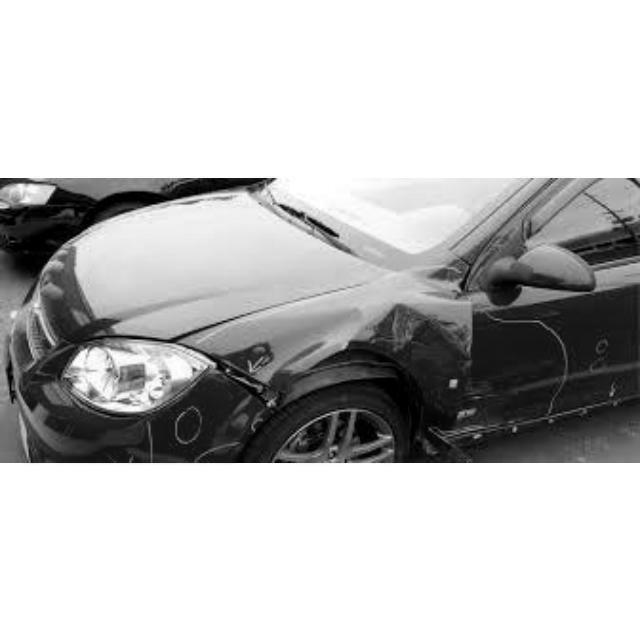fender-dent: (293, 263, 487, 375), (223, 337, 282, 425)
